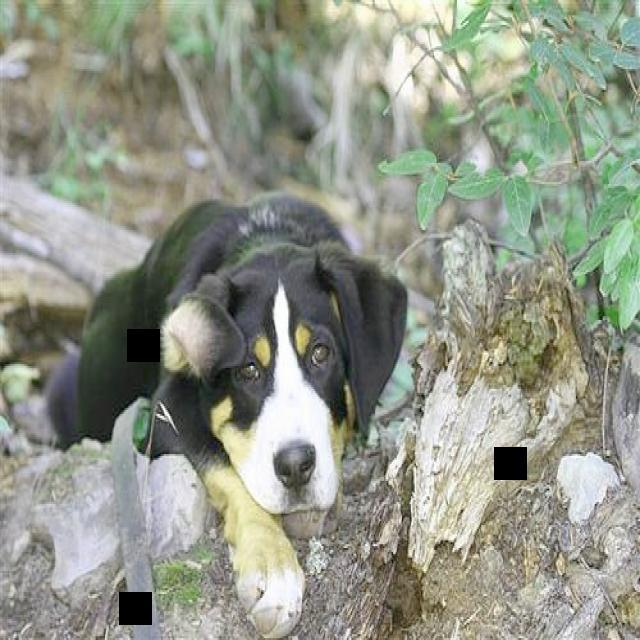puppy-dog: (34, 193, 403, 630)
